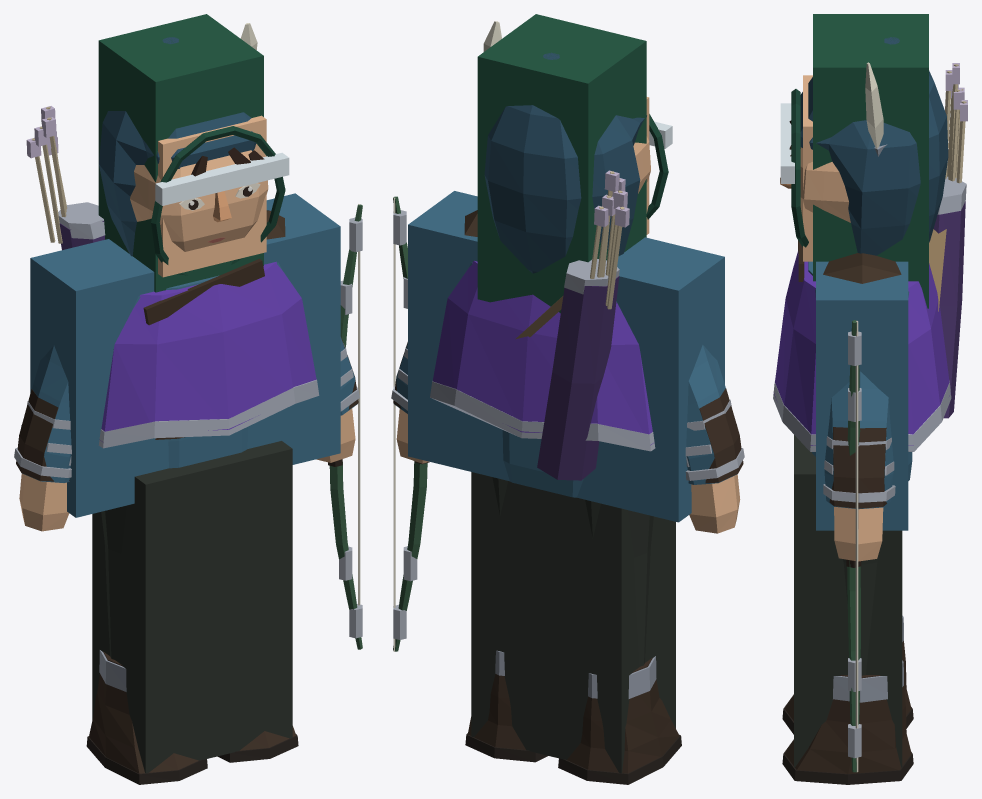
The model's file is kadro-suheyla.obj.
The picture shows the model from 3 angles, left to right: view 1: azimuth 30°, elevation 25°; view 2: azimuth 150°, elevation 25°; view 3: azimuth 270°, elevation 25°; orthographic projection. The views are drawn at different scales.
Visible parts, largest first — view 1: okyeli-uzak-bacak, okyeli-uzak-govde, okyeli-pelerin-destansi-efsanevi, okyeli-uzak-baslik, okyeli-kapuson-destansi-efsanevi, okyeli-kafa, okyeli-uzak-kafa, okyeli-cizmeler, okyeli-pelerin-kenari-destansi-efsanevi, suheyla-gozluk, okyeli-kollar, okyeli-eller (+14 smaller); view 2: okyeli-uzak-bacak, okyeli-uzak-govde, okyeli-uzak-baslik, okyeli-pelerin-destansi-efsanevi, okyeli-kapuson-destansi-efsanevi, okyeli-sadak-destansi-efsanevi, okyeli-cizmeler, okyeli-pelerin-kenari-destansi-efsanevi, okyeli-kollar, okyeli-eller, okyeli-bacaklar, okyeli-govde (+11 smaller); view 3: okyeli-uzak-baslik, okyeli-uzak-bacak, okyeli-uzak-govde, okyeli-kapuson-destansi-efsanevi, okyeli-pelerin-destansi-efsanevi, okyeli-cizmeler, okyeli-sadak-destansi-efsanevi, okyeli-bileklikler, okyeli-kollar, okyeli-eller, okyeli-kafa, okyeli-yay-destansi-efsanevi (+16 smaller).
Boxes of the visible parts, box(x1,y1,x2,y2) form: okyeli-uzak-bacak: box(92, 441, 292, 773); okyeli-uzak-govde: box(30, 193, 340, 517); okyeli-pelerin-destansi-efsanevi: box(99, 261, 316, 442); okyeli-uzak-baslik: box(98, 14, 263, 292); okyeli-kapuson-destansi-efsanevi: box(99, 37, 256, 256); okyeli-kafa: box(130, 149, 268, 251); okyeli-uzak-kafa: box(158, 115, 266, 277); okyeli-cizmeler: box(89, 651, 295, 773); okyeli-pelerin-kenari-destansi-efsanevi: box(98, 379, 319, 448); suheyla-gozluk: box(155, 152, 289, 205); okyeli-kollar: box(22, 262, 357, 482); okyeli-eller: box(19, 408, 355, 531); okyeli-uzak-bacak: box(471, 472, 675, 773); okyeli-uzak-govde: box(408, 191, 724, 522); okyeli-uzak-baslik: box(477, 14, 646, 313); okyeli-pelerin-destansi-efsanevi: box(432, 261, 654, 445); okyeli-kapuson-destansi-efsanevi: box(484, 52, 646, 273); okyeli-sadak-destansi-efsanevi: box(537, 276, 619, 480); okyeli-cizmeler: box(467, 658, 679, 773); okyeli-pelerin-kenari-destansi-efsanevi: box(430, 381, 655, 451); okyeli-kollar: box(394, 262, 737, 484); okyeli-eller: box(396, 408, 740, 533); okyeli-bacaklar: box(492, 477, 653, 666); okyeli-govde: box(502, 430, 583, 497); okyeli-uzak-baslik: box(813, 14, 928, 308); okyeli-uzak-bacak: box(794, 435, 902, 767); okyeli-uzak-govde: box(816, 261, 908, 530); okyeli-kapuson-destansi-efsanevi: box(800, 37, 948, 255); okyeli-pelerin-destansi-efsanevi: box(773, 251, 950, 445); okyeli-cizmeler: box(784, 641, 911, 773); okyeli-sadak-destansi-efsanevi: box(933, 201, 965, 418); okyeli-bileklikler: box(829, 427, 886, 508); okyeli-kollar: box(815, 290, 909, 509); okyeli-eller: box(834, 507, 883, 561); okyeli-kafa: box(800, 147, 850, 222); okyeli-yay-destansi-efsanevi: box(847, 320, 860, 772).
Bounding box in the file's own units: 22.49 × 44.21 × 10.99.
